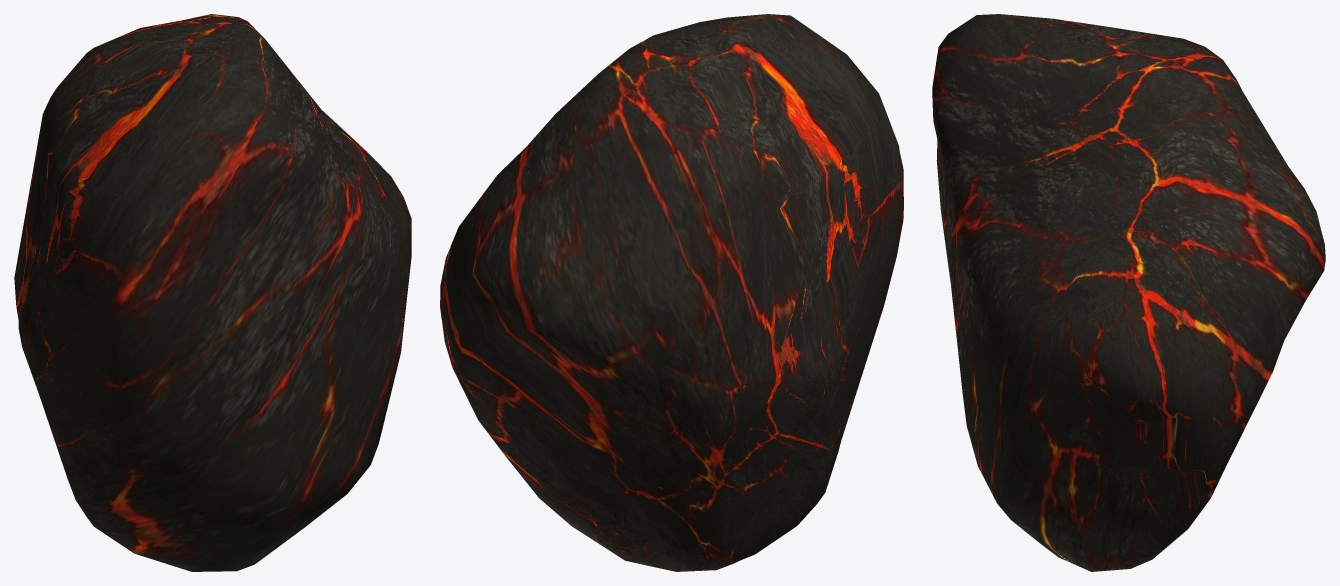
The model's file is meteorito.FBX.
3 views of the same model, side by side, from view 1: azimuth 30°, elevation 25°; view 2: azimuth 150°, elevation 25°; view 3: azimuth 270°, elevation 25° (orthographic). The views are drawn at different scales.
Parts seen in each view (by area): view 1: roca metorito; view 2: roca metorito; view 3: roca metorito.
Part boxes in pixels (<box>): roca metorito: <box>14,14,411,571</box>; roca metorito: <box>440,14,903,571</box>; roca metorito: <box>932,14,1325,571</box>.
Bounding box in the file's own units: 0.0891 × 0.1205 × 0.0826.
